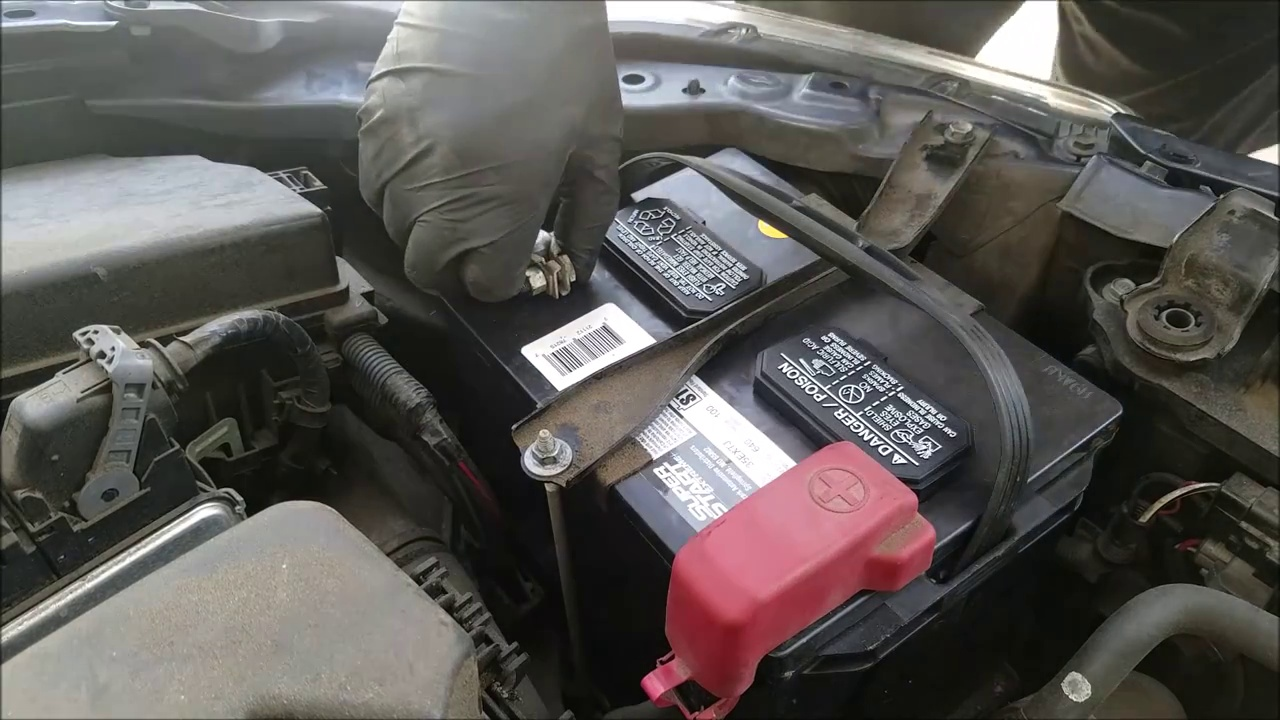battery: (439, 144, 1124, 656)
neg_touched: (407, 76, 633, 331)
pos_connected: (634, 449, 944, 666)
